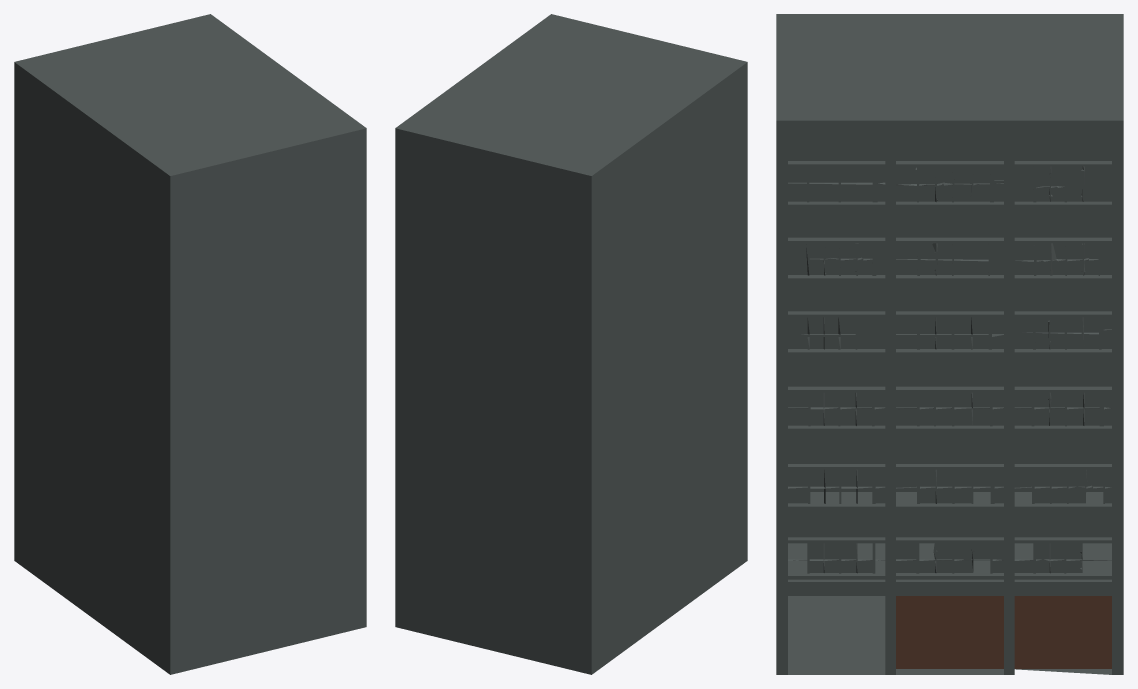
File: abandoned-building.lod1.glb
3 views of the same model, side by side, from view 1: azimuth 30°, elevation 25°; view 2: azimuth 150°, elevation 25°; view 3: azimuth 270°, elevation 25° (orthographic). The views are drawn at different scales.
Parts seen in each view (by area): view 1: Cube_Material.002_0; view 2: Cube_Material.002_0; view 3: Cube_Material.002_0.
Part boxes in pixels (x1,y1,x2,y2): Cube_Material.002_0: [14, 14, 366, 674]; Cube_Material.002_0: [395, 14, 747, 674]; Cube_Material.002_0: [776, 14, 1123, 674].
Size of the model in its own units: 5.36 by 13 by 7.37.
